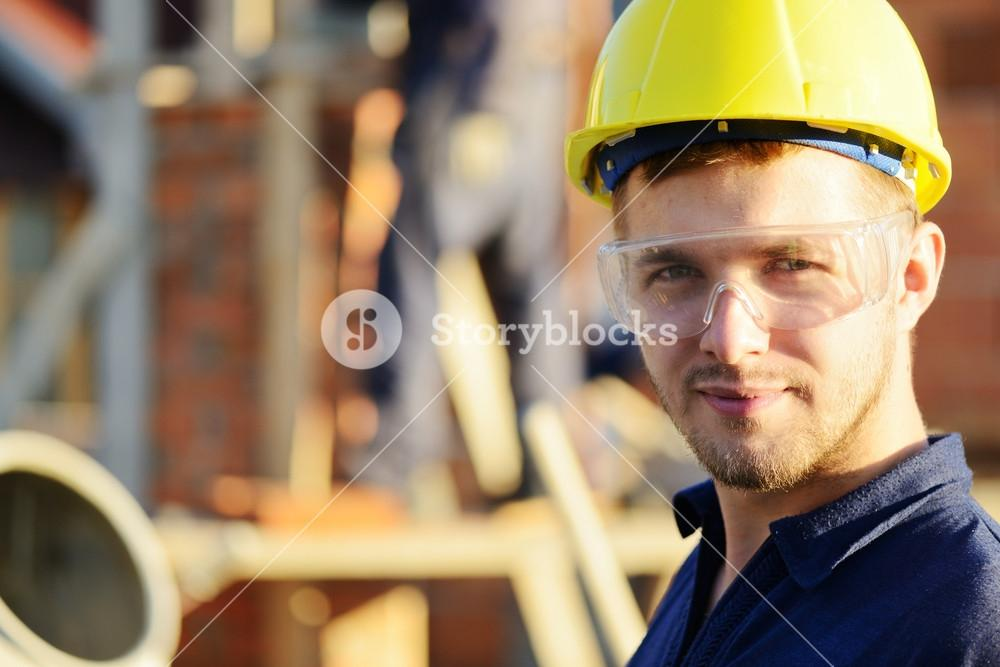helmet: (559, 0, 955, 211)
no_wear: (636, 478, 996, 667)
